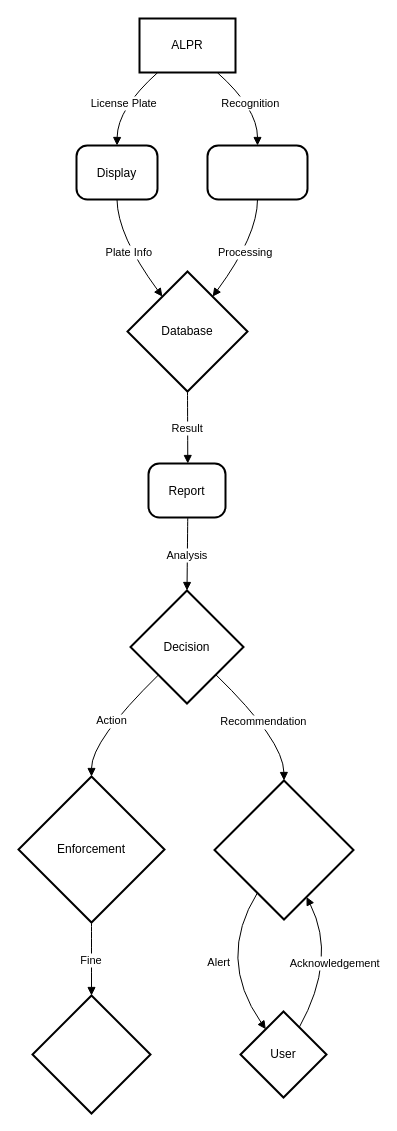
Some shapes in this 397 by 1131 pixel diagram are drawn without their labels. The shapes that lost their labels are listed below. From the top down, each one's centre as x and y in pixels, then its label:
the point at 257,172: Algorithm
the point at 283,849: Notification
the point at 91,1054: Violation
